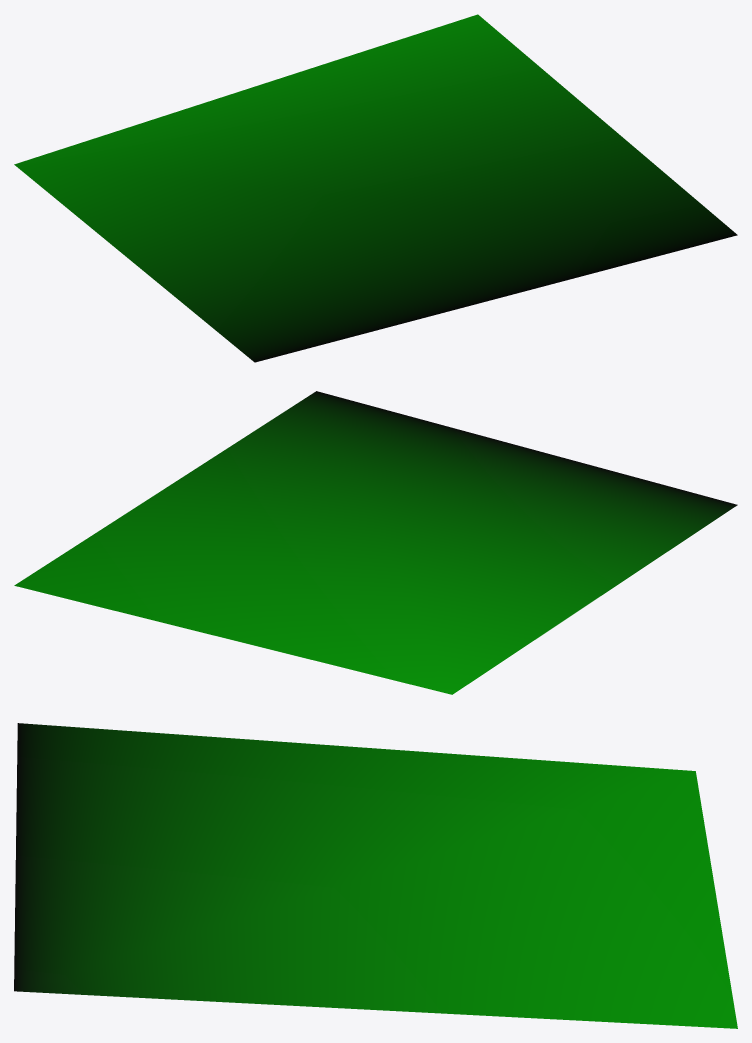
Rendered from 1_Bunga_Biru.fbx.
The picture shows the model from 3 angles, top to bottom: view 1: azimuth 30°, elevation 25°; view 2: azimuth 150°, elevation 25°; view 3: azimuth 270°, elevation 25°; orthographic projection. The views are drawn at different scales.
Parts seen in each view (by area): view 1: Rumput_6; view 2: Rumput_6; view 3: Rumput_6.
Part boxes in pixels (box(x1,y1,x2,y2)): Rumput_6: box(14, 14, 737, 362); Rumput_6: box(14, 391, 737, 694); Rumput_6: box(14, 723, 737, 1028).
Size of the model in its own units: 89.34 by 4.97 by 89.28.
